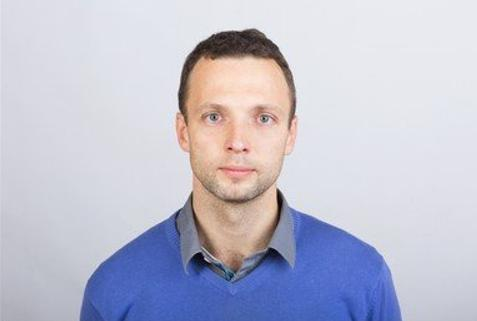Sober: (187, 58, 288, 202)
